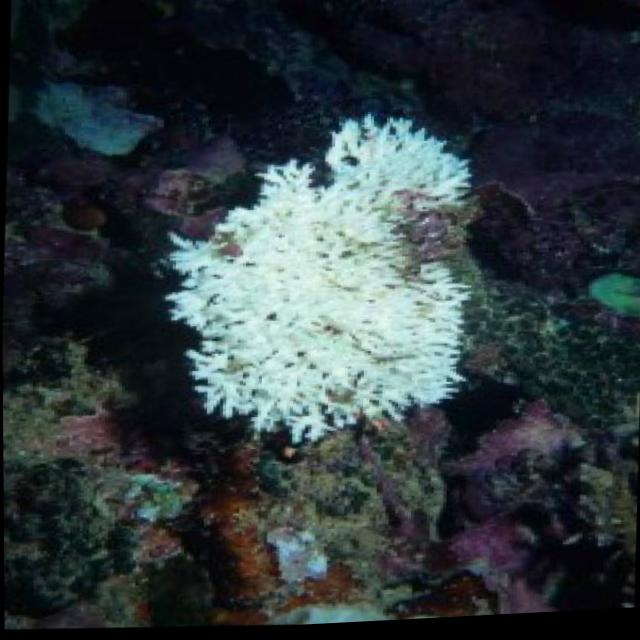Bleached Coral: (145, 105, 500, 453)
